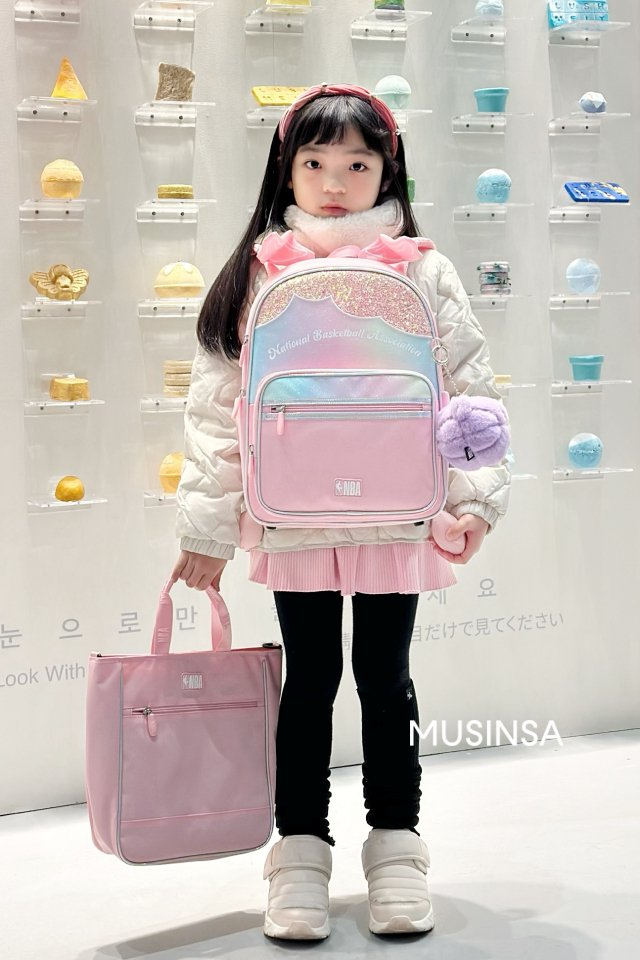Accessories: (275, 82, 404, 157)
Backpack: (229, 261, 451, 537)
Bag: (85, 651, 291, 859)
Shoes: (261, 826, 442, 946)
Skirt: (244, 537, 468, 599)
